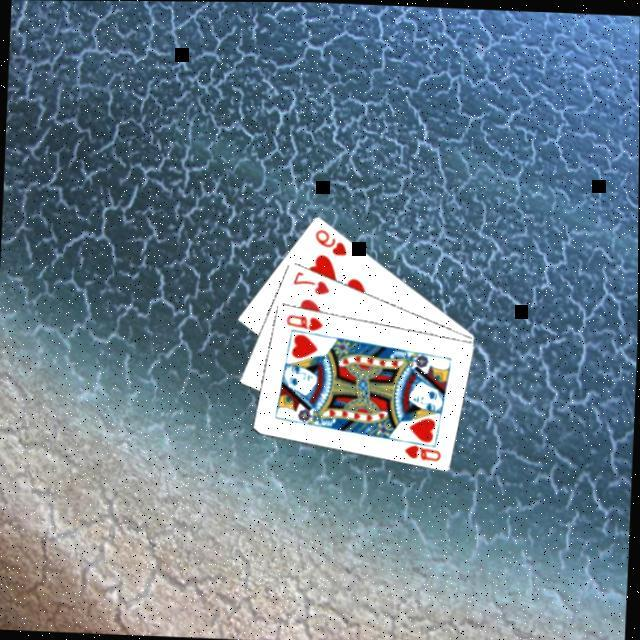7H: (291, 266, 334, 295)
9H: (313, 224, 352, 256)
QH: (399, 434, 446, 462), (284, 309, 327, 332)
